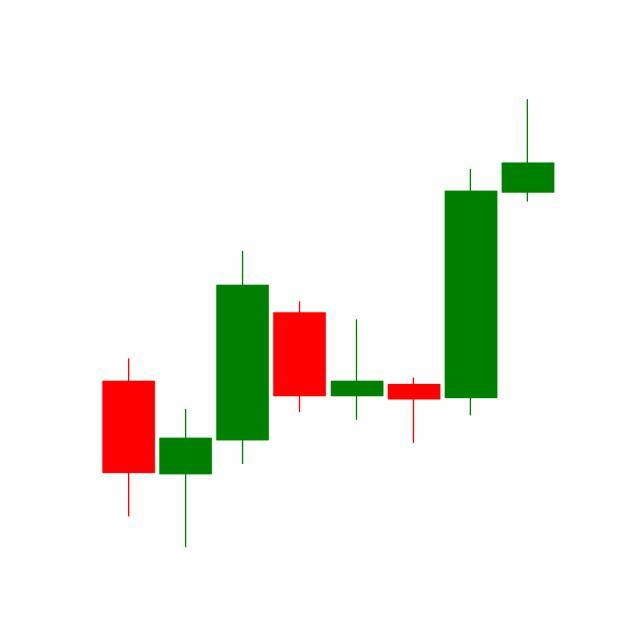Hikkake Pattern: (214, 167, 501, 469)
